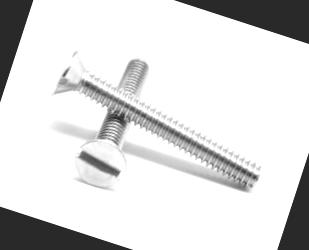slotted: (68, 130, 131, 196)
